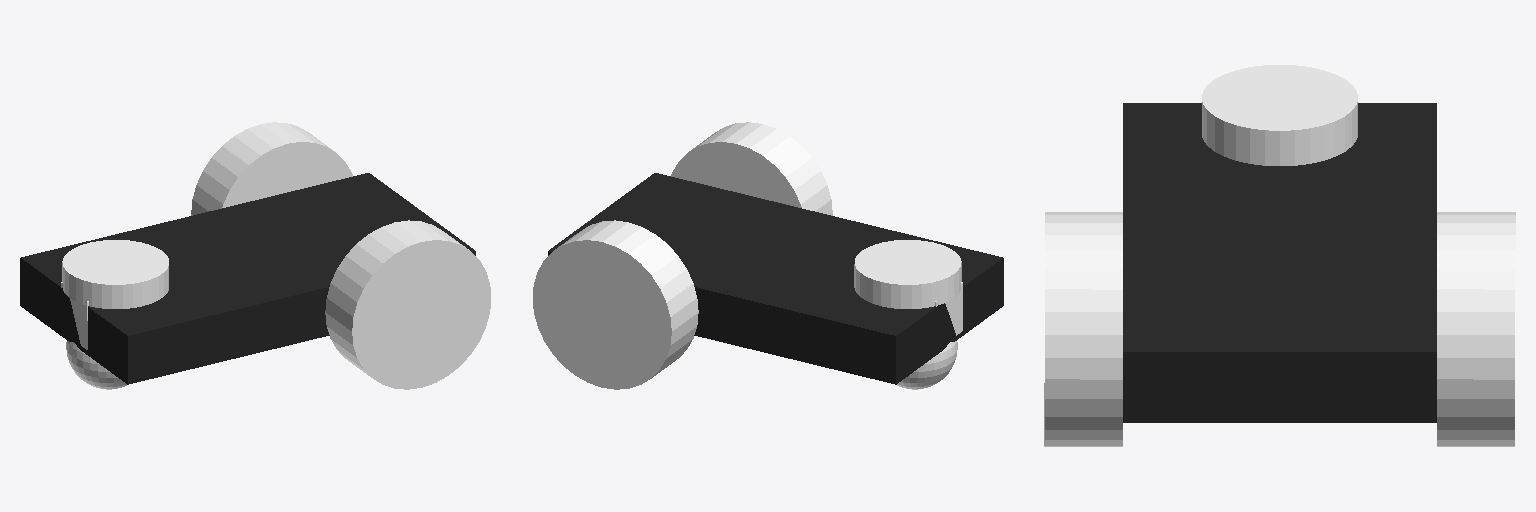
The robot description file, URDF, robot "three_wheeled_robot":
<?xml version="1.0" ?>
<robot name="three_wheeled_robot">
  <link name="base">
    <visual>
      <geometry>
        <box size="0.75 0.4 0.1"/>
      </geometry>
      <material name="gray">
        <color rgba=".2 .2 .2 1"/>
      </material>
    </visual>
    <inertial>
      <mass value="1"/>
      <inertia ixx="0.01" ixy="0.0" ixz="0" iyy="0.01" iyz="0" izz="0.01"/>
    </inertial>
    <collision>
      <geometry>
        <box size="0.75 0.4 0.1"/>
      </geometry>
    </collision>
  </link>

  <link name="wheel_right_link">
    <inertial>
      <mass value="2"/>
      <inertia ixx="0.01" ixy="0.0" ixz="0" iyy="0.01" iyz="0" izz="0.01"/>
    </inertial>
    <visual>
      <geometry>
        <cylinder radius="0.15" length="0.1"/>
      </geometry>
      <material name="white">
        <color rgba="1 1 1 1"/>
      </material>
    </visual>
    <collision>
      <geometry>
        <cylinder radius="0.15" length="0.1"/>
      </geometry>
      <contact_coefficients mu="1" kp="1e+13" kd="1.0"/>
    </collision>
  </link>

  <joint name="wheel_right_joint" type="continuous">
    <origin xyz="0.2 0.25 0.0" rpy="1.57 0.0 0.0"/>
    <parent link="base"/>
    <child link="wheel_right_link"/>
    <axis xyz="0.0 0.0 1.0"/>
  </joint>

  <link name="wheel_left_link">
    <inertial>
      <mass value="2"/>
      <inertia ixx="0.01" ixy="0.0" ixz="0" iyy="0.01" iyz="0" izz="0.01"/>
    </inertial>
    <visual>
      <geometry>
        <cylinder radius="0.15" length="0.1"/>
      </geometry>
      <material name="white">
        <color rgba="1 1 1 1"/>
      </material>
    </visual>
    <collision>
      <geometry>
        <cylinder radius="0.15" length="0.1"/>
      </geometry>
      <contact_coefficients mu="1" kp="1e+13" kd="1.0"/>
    </collision>
  </link>

  <joint name="wheel_left_joint" type="continuous">
    <origin xyz="0.2 -0.25 0.0" rpy="1.57 0.0 0.0"/>
    <parent link="base"/>
    <child link="wheel_left_link"/>
    <axis xyz="0.0 0.0 1.0"/>
  </joint>

  <link name="caster">
    <inertial>
      <mass value="1"/>
      <inertia ixx="0.01" ixy="0.0" ixz="0" iyy="0.01" iyz="0" izz="0.01"/>
    </inertial>
    <visual>
      <geometry>
        <sphere radius=".08"/>
      </geometry>
      <material name="white"/>
    </visual>
    <collision>
      <origin/>
      <geometry>
        <sphere radius=".08"/>
      </geometry>
    </collision>
  </link>

  <joint name="caster_joint" type="continuous">
    <origin xyz="-0.3 0.0 -0.07" rpy="0.0 0.0 0.0"/>
    <axis xyz="0 0 1"/>
    <parent link="base"/>
    <child link="caster"/>
  </joint>

  <link name="camera">
    <inertial>
      <mass value="0.1"/>
      <inertia ixx="0.01" ixy="0.0" ixz="0" iyy="0.01" iyz="0" izz="0.01"/>
    </inertial>
    <visual>
      <geometry>
        <box size="0.1 0.1 0.05"/>
      </geometry>
      <material name="white">
        <color rgba="1 1 1 1"/>
      </material>
    </visual>
    <collision>
      <geometry>
        <box size="0.1 0.1 0.05"/>
      </geometry>
    </collision>
  </link>

  <joint name="camera_joint" type="fixed">
    <origin xyz="-0.35 0 0.01" rpy="0 -1.57 3.14"/>
    <parent link="base"/>
    <child link="camera"/>
    <axis xyz="0.0 0.0 1.0"/>
  </joint>

  <link name="camera_optical_frame"/>

  <joint name="camera_optical_joint" type="fixed">
    <origin xyz="0 0 0" rpy="-1.57 0 -1.57"/>
    <parent link="camera"/>
    <child link="camera_optical_frame"/>
  </joint>

  <link name="lidar">
    <inertial>
      <mass value="0.5"/>
      <inertia ixx="0.01" ixy="0.0" ixz="0" iyy="0.01" iyz="0" izz="0.01"/>
    </inertial>
    <visual>
      <geometry>
        <cylinder radius="0.1" length="0.05"/>
      </geometry>
      <material name="white">
        <color rgba="1 1 1 1"/>
      </material>
    </visual>
    <collision>
      <geometry>
        <box size="0.1 0.1 0.1"/>
      </geometry>
    </collision>
  </link>

  <joint name="lidar_joint" type="fixed">
    <origin xyz="-0.285 0 0.075" rpy="0 0.0 1.57"/>
    <parent link="base"/>
    <child link="lidar"/>
    <axis xyz="0.0 0.0 1.0"/>
  </joint>

  <!-- Material Assignments -->
  <gazebo reference="base">
    <material>Gazebo/WhiteGlow</material>
  </gazebo>
  <gazebo reference="wheel_left_link">
    <material>Gazebo/SkyBlue</material>
  </gazebo>
  <gazebo reference="wheel_right_link">
    <material>Gazebo/SkyBlue</material>
  </gazebo>
  <gazebo reference="caster">
    <material>Gazebo/Grey</material>
  </gazebo>
  <gazebo reference="lidar">
    <material>Gazebo/Blue</material>
  </gazebo>
  <gazebo reference="camera">
    <material>Gazebo/Red</material>
  </gazebo>

  <!-- Differential Drive Plugin -->
  <gazebo>
    <plugin filename="libgazebo_ros_diff_drive.so" name="gazebo_base_controller">
      <odometry_frame>odom</odometry_frame>
      <commandTopic>cmd_vel</commandTopic>
      <publish_odom>true</publish_odom>
      <publish_odom_tf>true</publish_odom_tf>
      <update_rate>15.0</update_rate>
      <left_joint>wheel_left_joint</left_joint>
      <right_joint>wheel_right_joint</right_joint>
      <wheel_separation>0.5</wheel_separation>
      <wheel_diameter>0.3</wheel_diameter>
      <max_wheel_acceleration>0.7</max_wheel_acceleration>
      <max_wheel_torque>8</max_wheel_torque>
      <robotBaseFrame>base</robotBaseFrame>
    </plugin>
  </gazebo>

  <!-- Camera Plugin -->
<gazebo reference="camera">
  <sensor type="camera" name="camera1">
    <update_rate>30.0</update_rate>
    <camera name="head">
      <horizontal_fov>1.3962634</horizontal_fov>
      <image>
        <width>800</width>
        <height>800</height>
        <format>R8G8B8</format>
      </image>
      <clip>
        <near>0.02</near>
        <far>300</far>
      </clip>
    </camera>
    <plugin name="camera_controller" filename="libgazebo_ros_camera.so">
      <alwaysOn>true</alwaysOn>
      <updateRate>0.0</updateRate>
      <cameraName>camera1</cameraName>
      <imageTopicName>image_raw</imageTopicName>
      <cameraInfoTopicName>camera_info</cameraInfoTopicName>
      <frameName>camera</frameName>
      <hackBaseline>0.07</hackBaseline>
      <distortionK1>0.0</distortionK1>
      <distortionK2>0.0</distortionK2>
      <distortionK3>0.0</distortionK3>
      <distortionT1>0.0</distortionT1>
      <distortionT2>0.0</distortionT2>
    </plugin>
  </sensor>
</gazebo>

  <!-- Lidar Plugin -->
  <gazebo reference="lidar">
    <sensor name="lidar" type="ray">
      <visualize>true</visualize>
      <update_rate>12.0</update_rate>
      <plugin filename="libgazebo_ros_ray_sensor.so" name="gazebo_lidar">
        <output_type>sensor_msgs/LaserScan</output_type>
        <frame_name>lidar</frame_name>
      </plugin>
      <ray>
        <scan>
          <horizontal>
            <samples>360</samples>
            <resolution>1</resolution>
            <min_angle>0.00</min_angle>
            <max_angle>3.14</max_angle>
          </horizontal>
        </scan>
        <range>
          <min>0.120</min>
          <max>3.5</max>
          <resolution>0.015</resolution>
        </range>
      </ray>
    </sensor>
  </gazebo>
</robot>

--- What the picture shows (computed from the rendered views, not written in the file) ---
Views: 3 orthographic renders of the robot side by side, from view 1: azimuth 30°, elevation 25°; view 2: azimuth 150°, elevation 25°; view 3: azimuth 270°, elevation 25°.
Robot: three_wheeled_robot — 7 links, 6 joints (3 continuous, 3 fixed); root link base; default pose: every joint at zero.
Links seen in each view (by area): view 1: base, wheel_left_link, wheel_right_link, lidar, caster, camera; view 2: base, wheel_right_link, wheel_left_link, lidar, caster; view 3: base, wheel_right_link, wheel_left_link, lidar.
Boxes of the visible links, box(x1,y1,x2,y2) form: base: box(20, 173, 475, 384); wheel_left_link: box(325, 220, 490, 389); wheel_right_link: box(191, 122, 352, 215); lidar: box(62, 240, 168, 308); caster: box(66, 341, 126, 389); camera: box(61, 282, 88, 349); base: box(548, 173, 1003, 384); wheel_right_link: box(533, 220, 698, 389); wheel_left_link: box(671, 122, 832, 215); lidar: box(854, 240, 961, 308); caster: box(897, 341, 957, 389); base: box(1123, 103, 1436, 422); wheel_right_link: box(1437, 212, 1515, 446); wheel_left_link: box(1044, 212, 1122, 446); lidar: box(1202, 65, 1357, 165).
Bounding box of the posed robot: 0.76 × 0.6002 × 0.3001 m (x, y, z).
Geometry: primitives only (box / cylinder / sphere), no mesh files.
